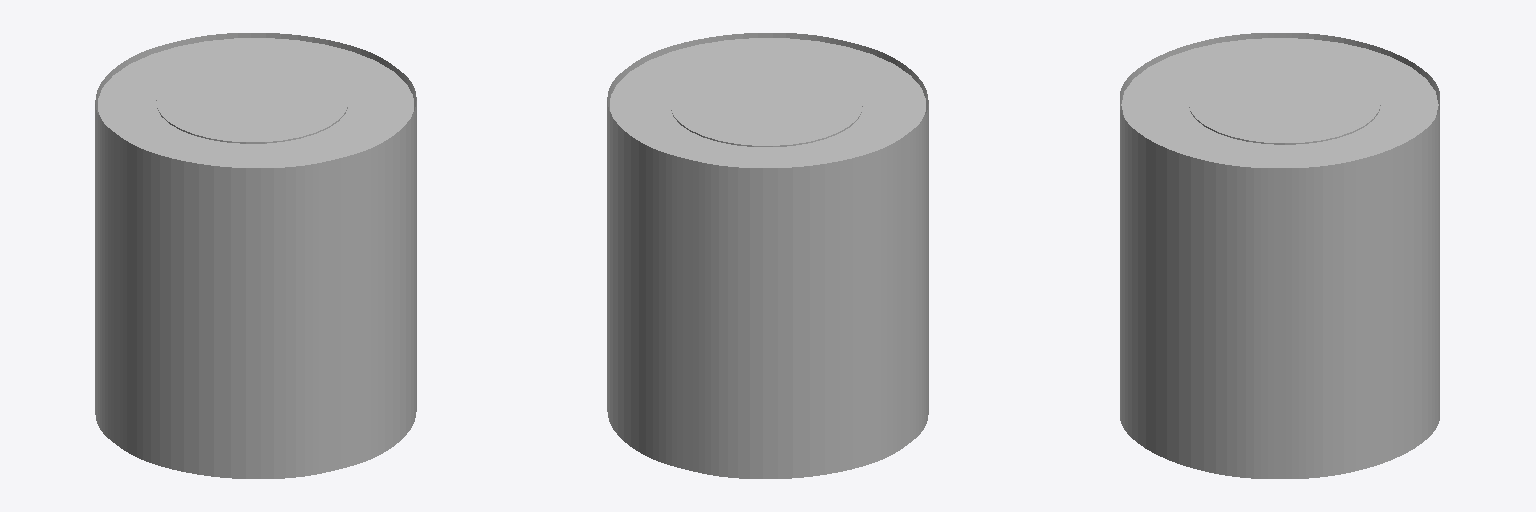
The model's file is sushi.obj.
3 renders of one model, left to right at view 1: azimuth 30°, elevation 25°; view 2: azimuth 150°, elevation 25°; view 3: azimuth 270°, elevation 25°, orthographic.
Parts seen in each view (by area): view 1: Поверхность.005, Цилиндр.011_Цилиндр.012, Цилиндр.010_Цилиндр.011; view 2: Поверхность.005, Цилиндр.011_Цилиндр.012, Цилиндр.010_Цилиндр.011; view 3: Поверхность.005, Цилиндр.011_Цилиндр.012, Цилиндр.010_Цилиндр.011.
Part boxes in pixels (bbox=[...]): Поверхность.005: bbox=[95, 33, 416, 478]; Цилиндр.011_Цилиндр.012: bbox=[98, 38, 413, 167]; Цилиндр.010_Цилиндр.011: bbox=[156, 61, 347, 143]; Поверхность.005: bbox=[607, 33, 928, 478]; Цилиндр.011_Цилиндр.012: bbox=[610, 38, 925, 167]; Цилиндр.010_Цилиндр.011: bbox=[671, 65, 862, 146]; Поверхность.005: bbox=[1120, 33, 1439, 478]; Цилиндр.011_Цилиндр.012: bbox=[1121, 38, 1438, 167]; Цилиндр.010_Цилиндр.011: bbox=[1189, 62, 1380, 144].
Bounding box in the file's own units: 2 × 2.14 × 2.